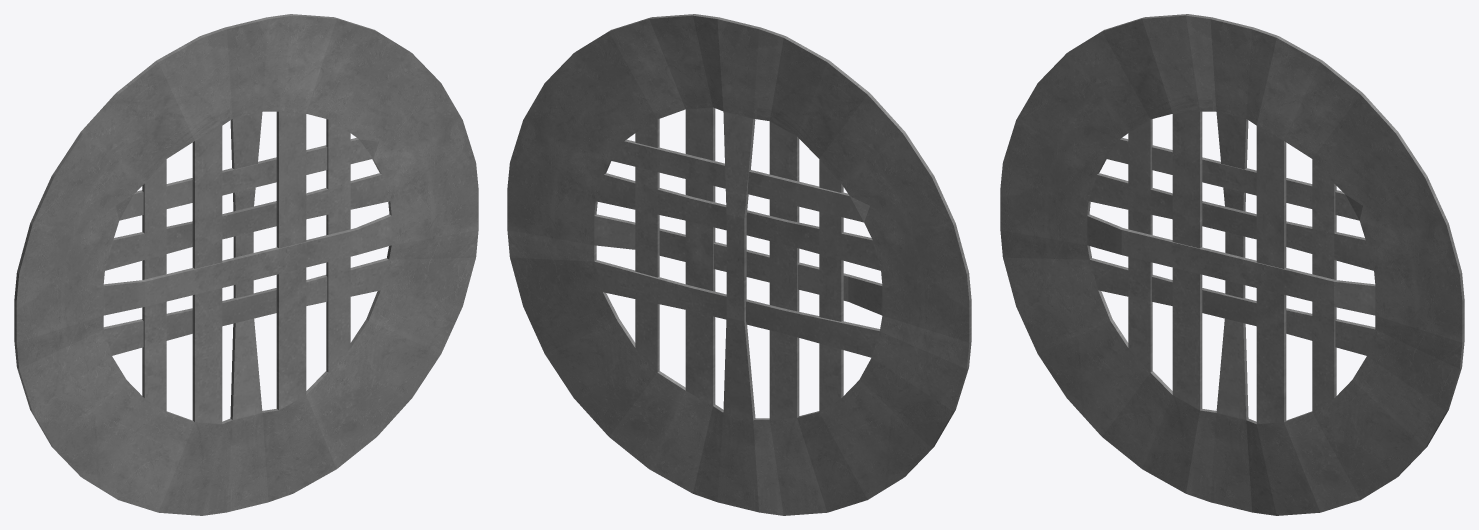
The model's file is ALCANTARILLA.fbx.
3 renders of one model, left to right at view 1: azimuth 30°, elevation 25°; view 2: azimuth 150°, elevation 25°; view 3: azimuth 330°, elevation 25°, orthographic.
Parts seen in each view (by area): view 1: Cylinder.002; view 2: Cylinder.002; view 3: Cylinder.002.
Boxes of the visible parts, x1,y1,x2,y2 form: Cylinder.002: (14, 14, 478, 515); Cylinder.002: (507, 14, 971, 515); Cylinder.002: (1000, 14, 1464, 515).
Size of the model in its own units: 703 by 702 by 22.96.
